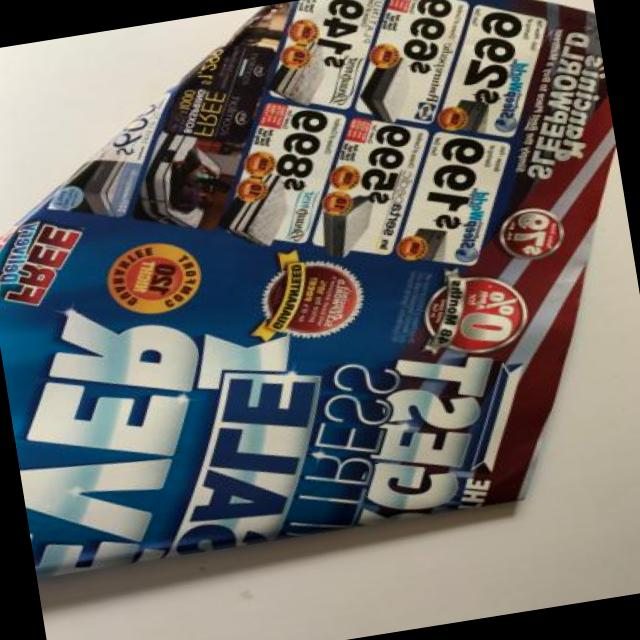paper: (0, 50, 559, 563)
